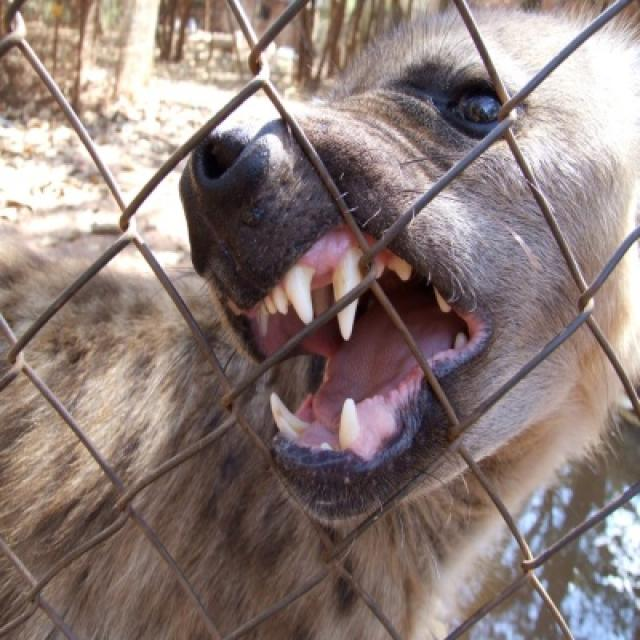hyena: (0, 13, 638, 638)
